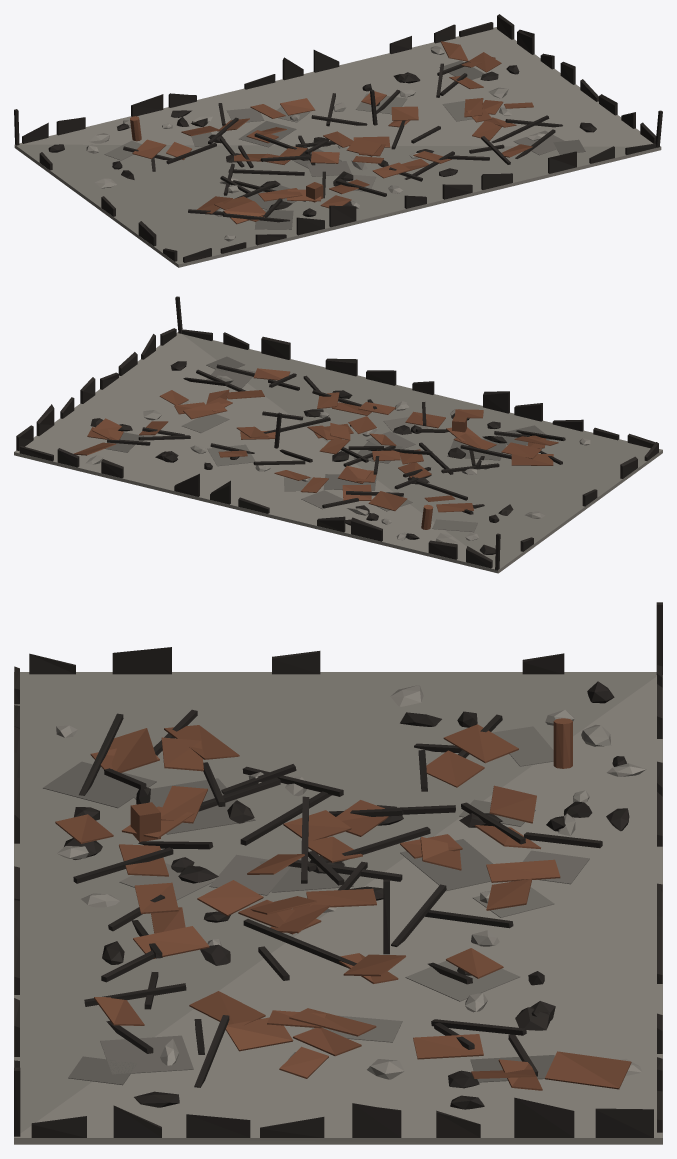
The model's file is ruin_34x20.glb.
3 views of the same model, one above another, from view 1: azimuth 30°, elevation 25°; view 2: azimuth 150°, elevation 25°; view 3: azimuth 270°, elevation 25° (orthographic). The views are drawn at different scales.
Parts seen in each view (by area): view 1: ruin; view 2: ruin; view 3: ruin.
Part boxes in pixels (<box>): ruin: <box>14,14,662,267</box>; ruin: <box>14,296,662,573</box>; ruin: <box>14,602,662,1144</box>.
Size of the model in its own units: 34.15 by 2.68 by 20.
